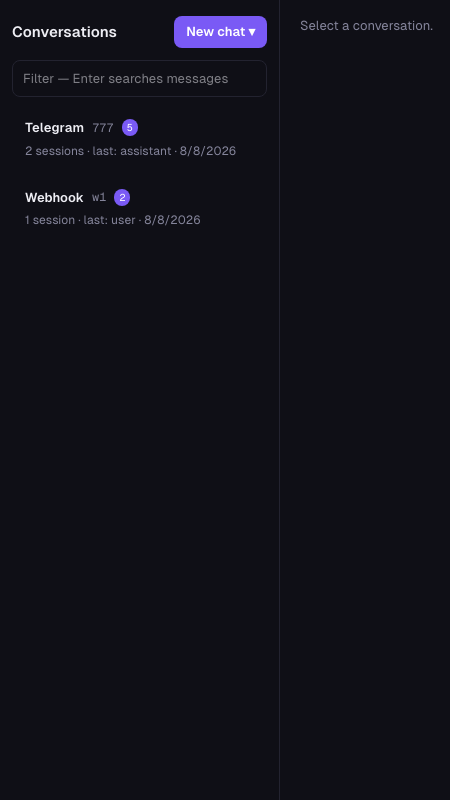
Test: inbox filter + search › the filter narrows rows instantly by channel/id
expect the text "Telegram" is shown: met, box [25,118,84,138]
Type "web" into the search field named "filter or search". click: [140, 78]
box: [12,60,267,97]
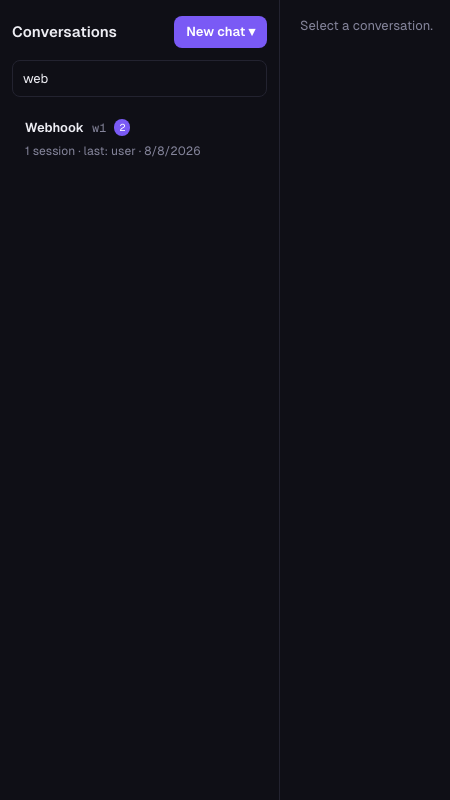
expect the text "Webhook" is shown: met, box [25,118,84,138]
expect the button "Telegram" is gone: met
